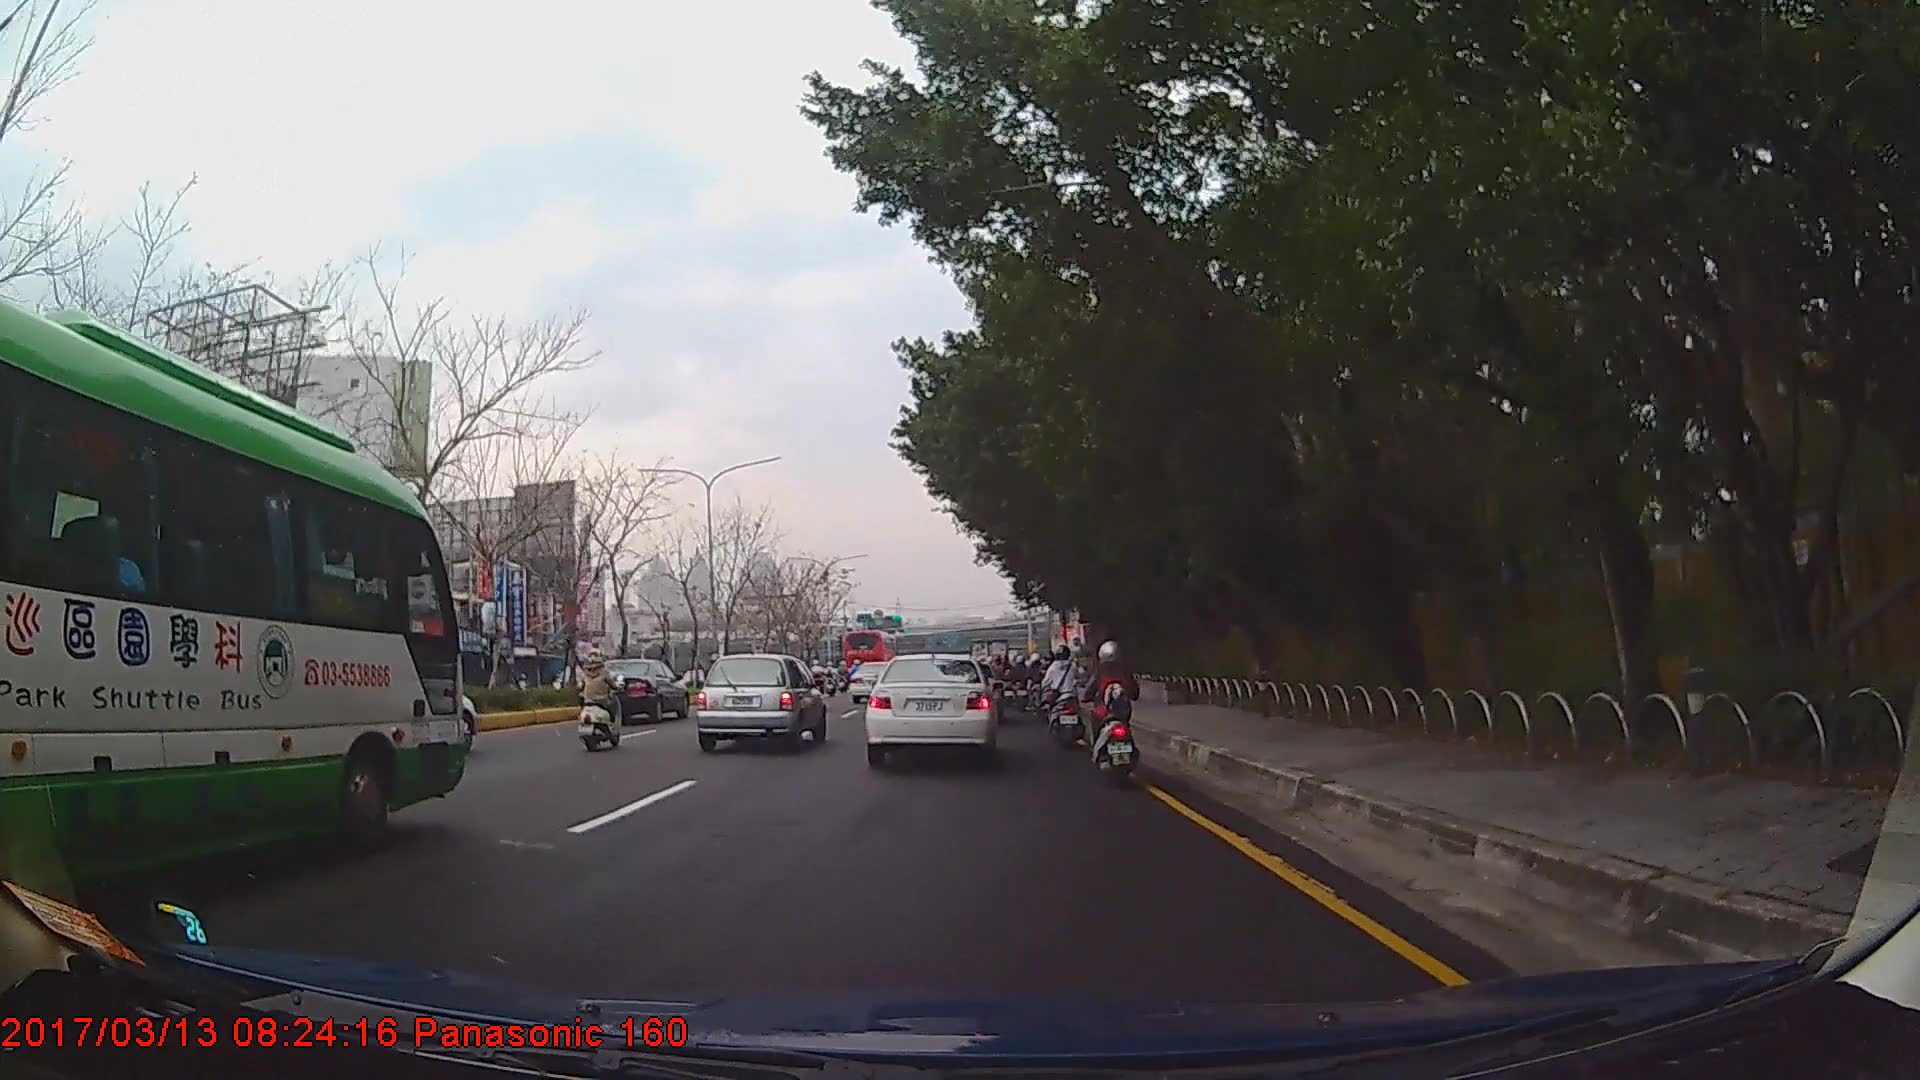rider: (1088, 639, 1144, 791), (581, 649, 625, 756), (1046, 645, 1089, 752), (1040, 653, 1062, 738)
vehicle: (0, 285, 469, 903), (863, 655, 999, 762), (693, 652, 829, 753), (581, 659, 690, 728), (843, 629, 900, 685)
